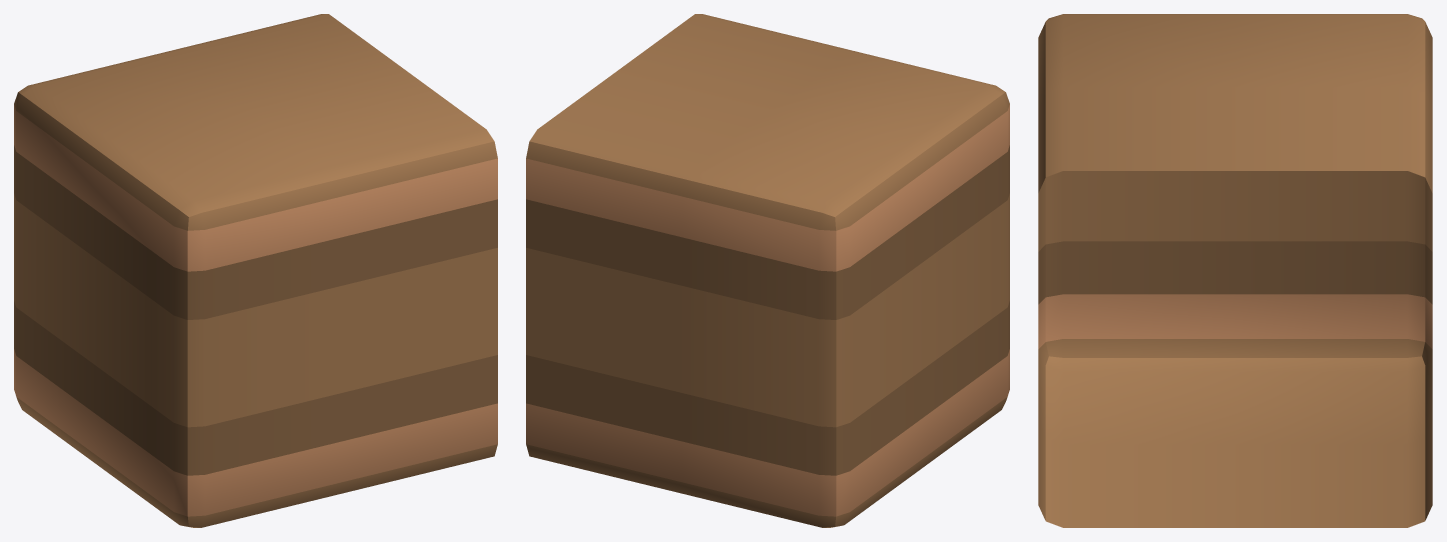
Rendered from Cube_Dirt_1x1End.fbx.
The picture shows the model from 3 angles, left to right: view 1: azimuth 30°, elevation 25°; view 2: azimuth 150°, elevation 25°; view 3: azimuth 270°, elevation 25°; orthographic projection. The views are drawn at different scales.
Parts seen in each view (by area): view 1: Cube_Dirt_1x1End; view 2: Cube_Dirt_1x1End; view 3: Cube_Dirt_1x1End.
Boxes of the visible parts, box(x1,y1,x2,y2) form: Cube_Dirt_1x1End: box(14, 14, 497, 527); Cube_Dirt_1x1End: box(526, 14, 1009, 527); Cube_Dirt_1x1End: box(1038, 14, 1432, 527).
Bounding box in the file's own units: 200 × 200 × 200.
